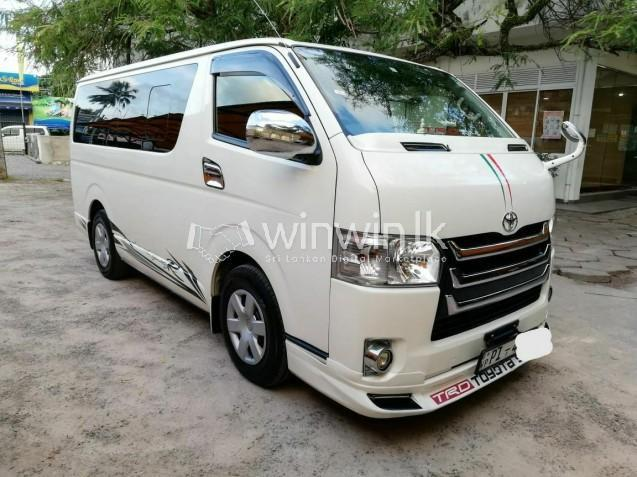car: (65, 33, 573, 423)
